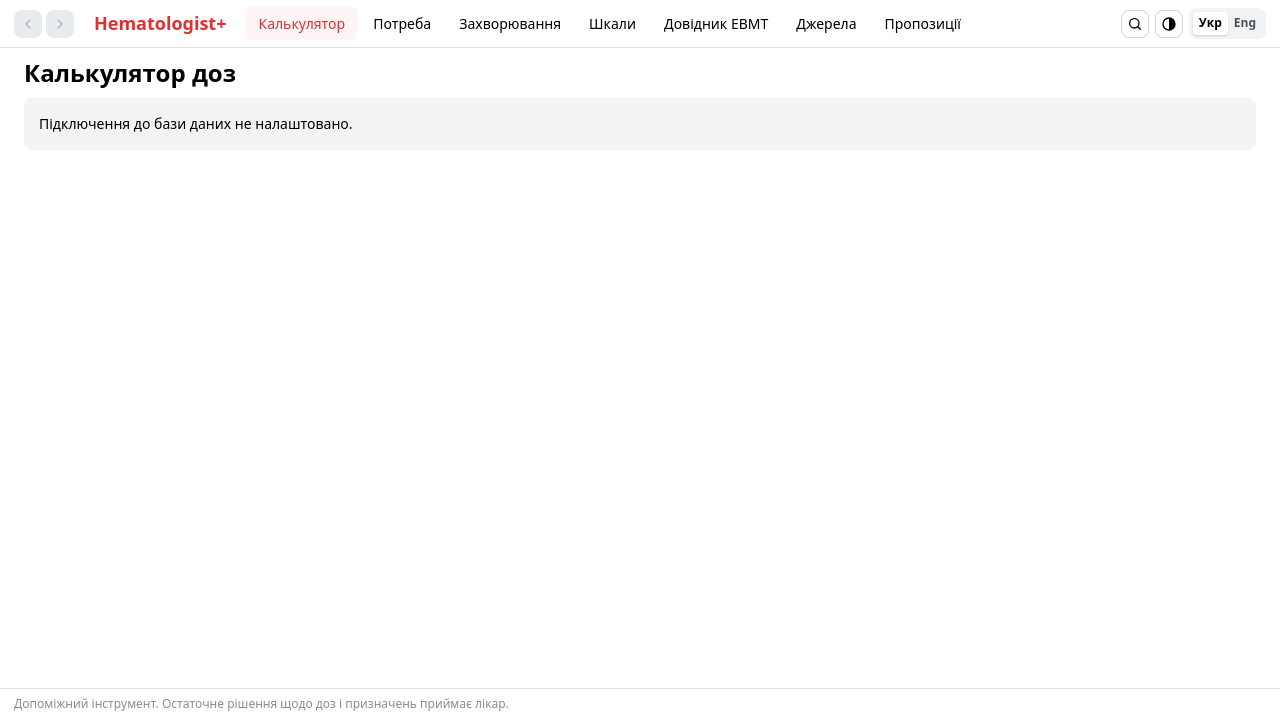
Test: App shell › navigates to the sources page
The width and height of the screenshot is (1280, 720).
Click the link "Джерела": click(826, 23) [796,14,857,33]
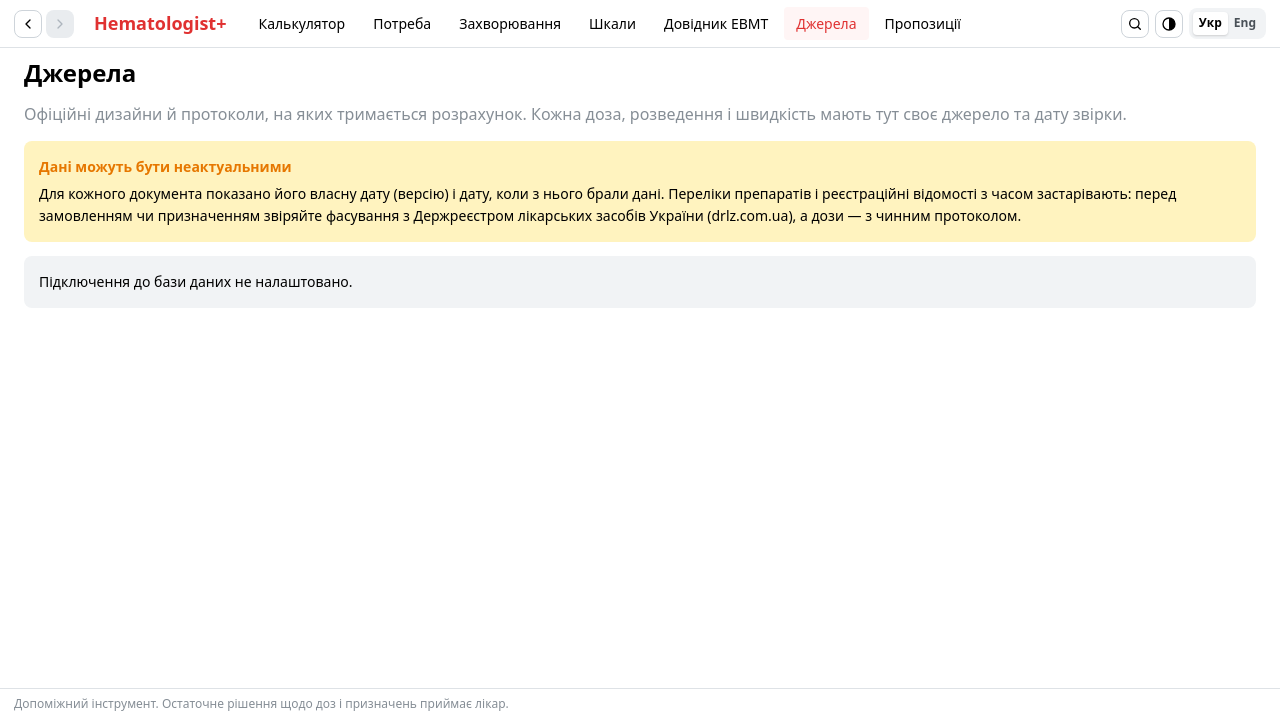
Check: the heading "Джерела" is shown, box [24,56,136,89]
